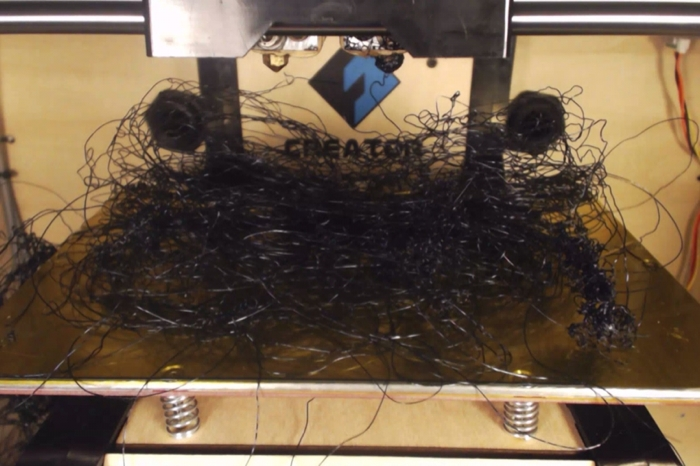Fail: (63, 78, 684, 410)
